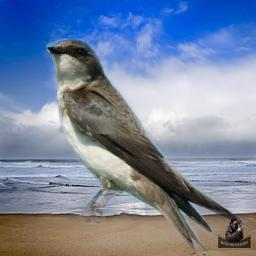Swallow: (46, 38, 242, 253)
